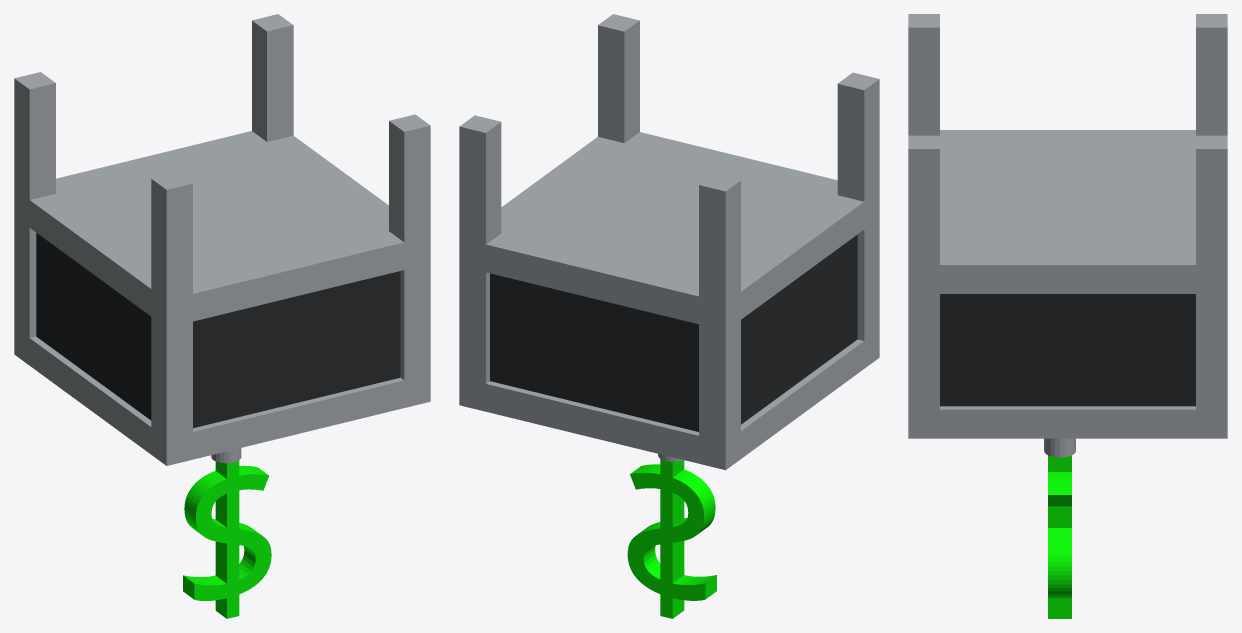
Rendered from tinker.obj.
The picture shows the model from 3 angles, left to right: view 1: azimuth 30°, elevation 25°; view 2: azimuth 150°, elevation 25°; view 3: azimuth 270°, elevation 25°; orthographic projection. The views are drawn at different scales.
Visible parts, largest first — view 1: group_0_10988977, group_0_2829873, group_0_392960; view 2: group_0_10988977, group_0_2829873, group_0_392960; view 3: group_0_10988977, group_0_2829873, group_0_392960.
Part boxes in pixels (x1=…): group_0_10988977: x1=14, y1=14, x2=430, y2=465; group_0_2829873: x1=36, y1=233, x2=400, y2=428; group_0_392960: x1=183, y1=460, x2=271, y2=618; group_0_10988977: x1=459, y1=14, x2=879, y2=470; group_0_2829873: x1=490, y1=234, x2=857, y2=431; group_0_392960: x1=627, y1=459, x2=716, y2=618; group_0_10988977: x1=908, y1=14, x2=1227, y2=457; group_0_2829873: x1=940, y1=294, x2=1195, y2=406; group_0_392960: x1=1048, y1=455, x2=1071, y2=618.
Bounding box in the file's own units: 40 × 73.7 × 40.
